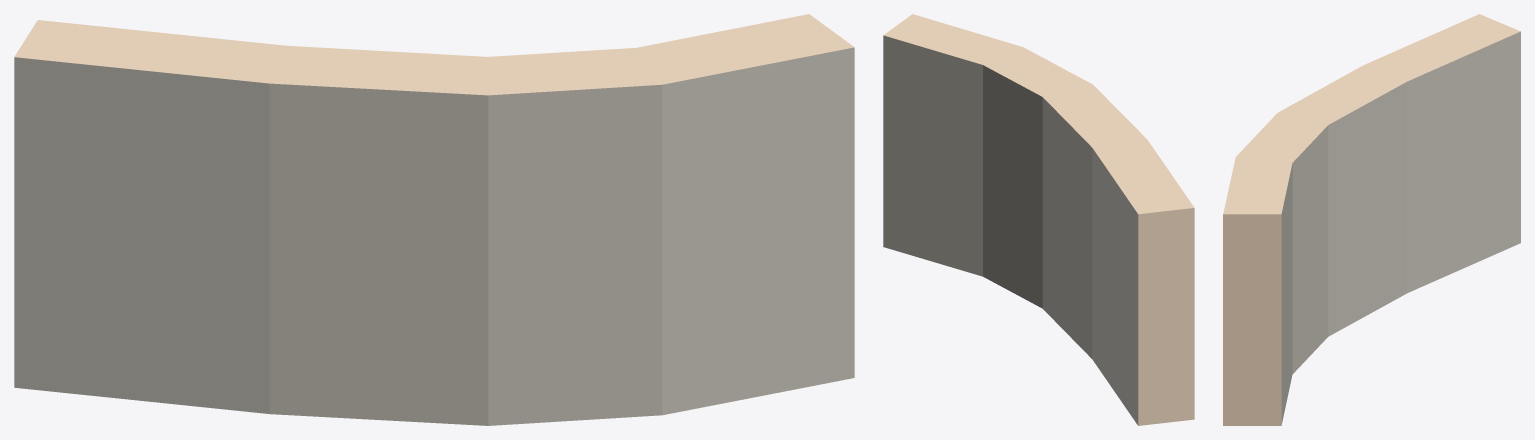
File: Tiered_Retaining_Wall_45_Degrees_Curve_Inner_3x3_Mid.glb
3 views of the same model, side by side, from view 1: azimuth 30°, elevation 25°; view 2: azimuth 150°, elevation 25°; view 3: azimuth 270°, elevation 25° (orthographic). The views are drawn at different scales.
Parts seen in each view (by area): view 1: Tiered_Retaining_Wall_45_Degrees_Curve_Inner_3x3_Mid; view 2: Tiered_Retaining_Wall_45_Degrees_Curve_Inner_3x3_Mid; view 3: Tiered_Retaining_Wall_45_Degrees_Curve_Inner_3x3_Mid.
Boxes of the visible parts, <box> form: Tiered_Retaining_Wall_45_Degrees_Curve_Inner_3x3_Mid: <box>14,14,854,425</box>; Tiered_Retaining_Wall_45_Degrees_Curve_Inner_3x3_Mid: <box>883,14,1194,425</box>; Tiered_Retaining_Wall_45_Degrees_Curve_Inner_3x3_Mid: <box>1223,14,1520,425</box>.
Size of the model in its own units: 203 by 100 by 127.
